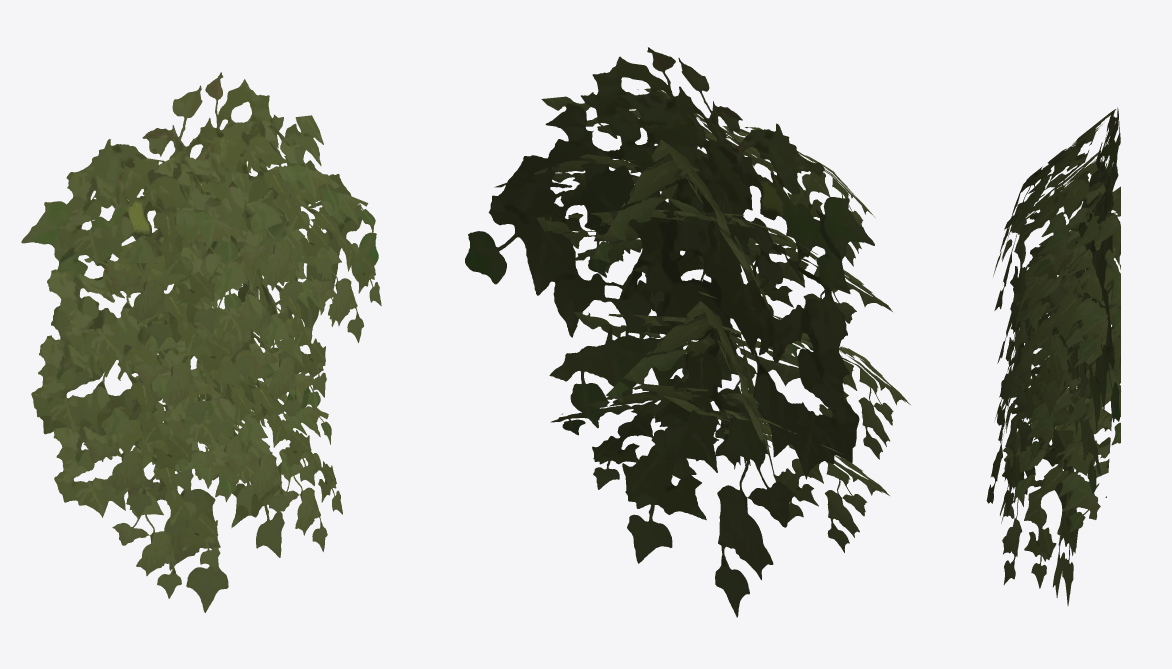
3 views of the same model, side by side, from view 1: azimuth 30°, elevation 25°; view 2: azimuth 150°, elevation 25°; view 3: azimuth 270°, elevation 25° (orthographic). The views are drawn at different scales.
Visible parts, largest first — view 1: body0_model0_lod0_mesh0; view 2: body0_model0_lod0_mesh0; view 3: body0_model0_lod0_mesh0.
Part boxes in pixels (x1,y1,x2,y2): body0_model0_lod0_mesh0: [21, 72, 381, 612]; body0_model0_lod0_mesh0: [465, 47, 910, 617]; body0_model0_lod0_mesh0: [986, 107, 1120, 605].
Size of the model in its own units: 79.14 by 108 by 32.97.
Materials: 1 (1 with a texture image).
